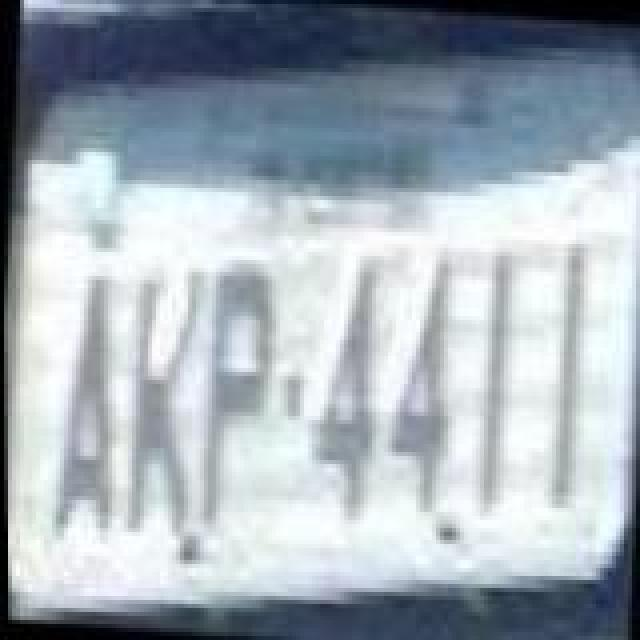1: (538, 232, 590, 520), (464, 238, 516, 522)
4: (304, 248, 388, 524), (380, 250, 464, 518)
A: (40, 270, 124, 554)
K: (116, 260, 208, 544)
P: (190, 254, 278, 530)
